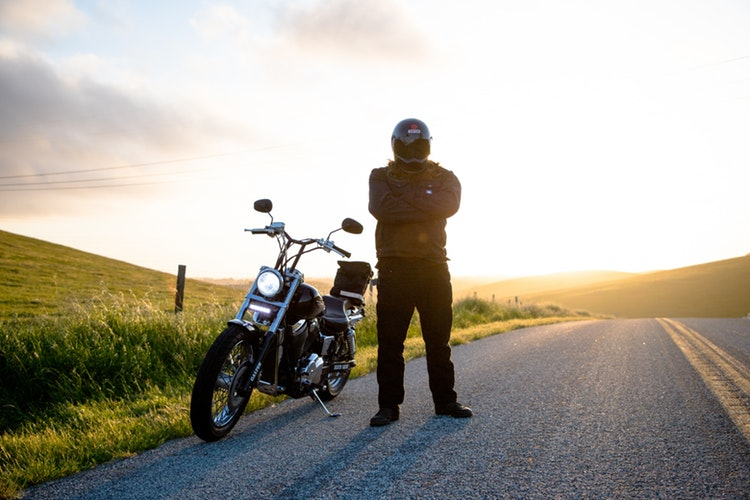helmet: (386, 115, 439, 172)
